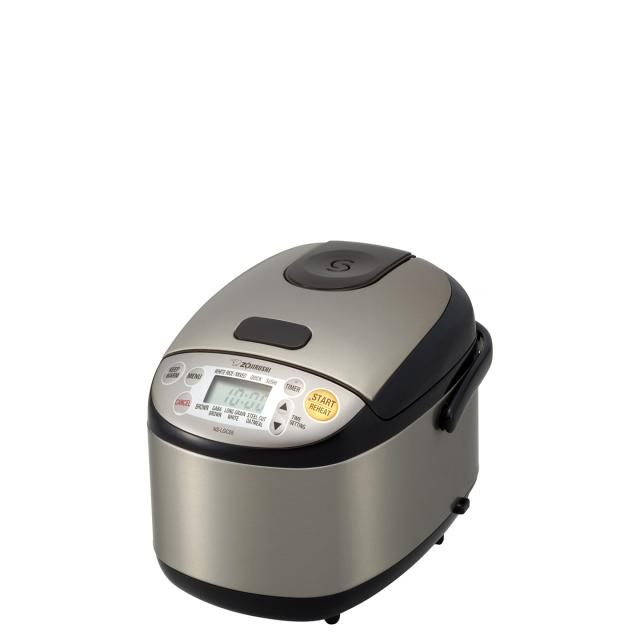appliances: (148, 241, 491, 622)
